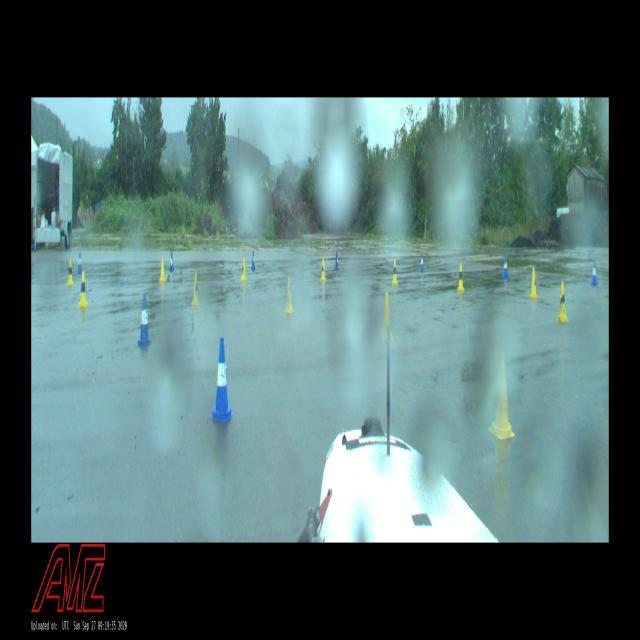blue_cone: (210, 338, 234, 422), (138, 294, 151, 346), (591, 261, 597, 286), (503, 256, 508, 278), (78, 252, 82, 274), (420, 253, 424, 273), (252, 250, 256, 270), (335, 250, 339, 270), (170, 252, 173, 271)
yellow_cone: (488, 350, 516, 440), (381, 292, 392, 342), (556, 282, 568, 321), (78, 271, 88, 308), (190, 272, 200, 306), (285, 277, 294, 312), (530, 268, 538, 298), (456, 264, 464, 291), (67, 259, 74, 285), (240, 258, 247, 280), (160, 258, 166, 283), (392, 260, 398, 284), (320, 258, 326, 280)
